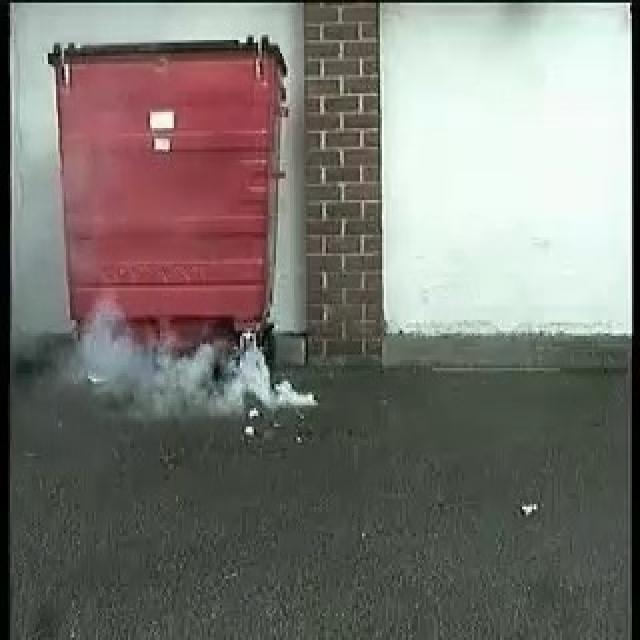smoke: (74, 322, 318, 416)
